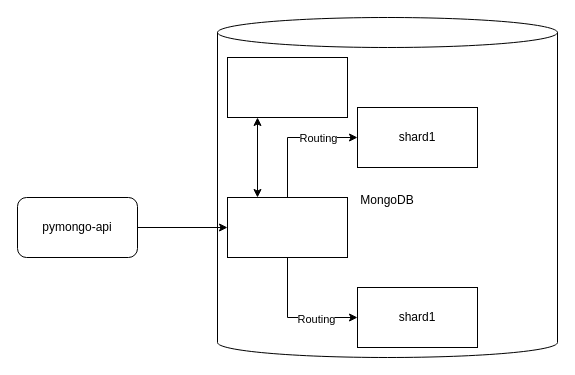
The diagram is 575 pixels wide and 375 high, and some of its shapes have lost their labels. Here are the shapes that lost their labels. From the top down, the centre of each, then its label:
At point (287, 87): "configSrv".
At point (287, 227): "router".
